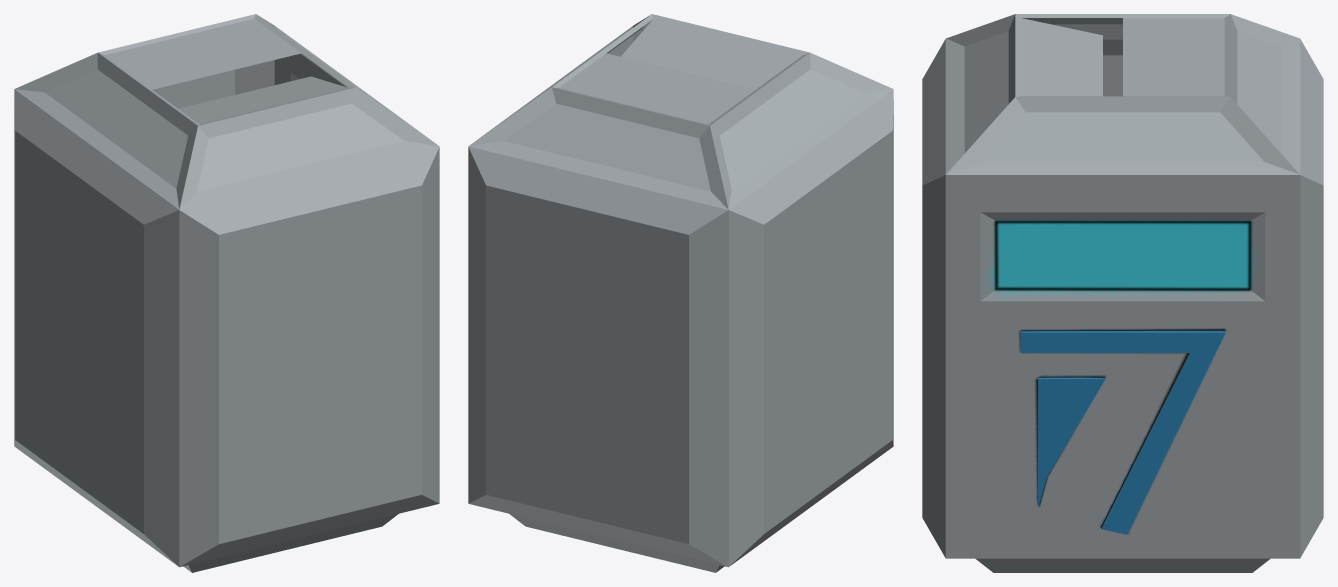
File: trash can.obj
3 views of the same model, side by side, from view 1: azimuth 30°, elevation 25°; view 2: azimuth 150°, elevation 25°; view 3: azimuth 270°, elevation 25° (orthographic). The views are drawn at different scales.
Visible parts, largest first — view 1: trash_can_Cube.002; view 2: trash_can_Cube.002; view 3: trash_can_Cube.002.
Boxes of the visible parts, bbox=[...] form: trash_can_Cube.002: bbox=[14, 14, 439, 572]; trash_can_Cube.002: bbox=[468, 14, 893, 572]; trash_can_Cube.002: bbox=[922, 14, 1323, 572].
Bounding box in the file's own units: 0.8121 × 1.2 × 0.9326.
